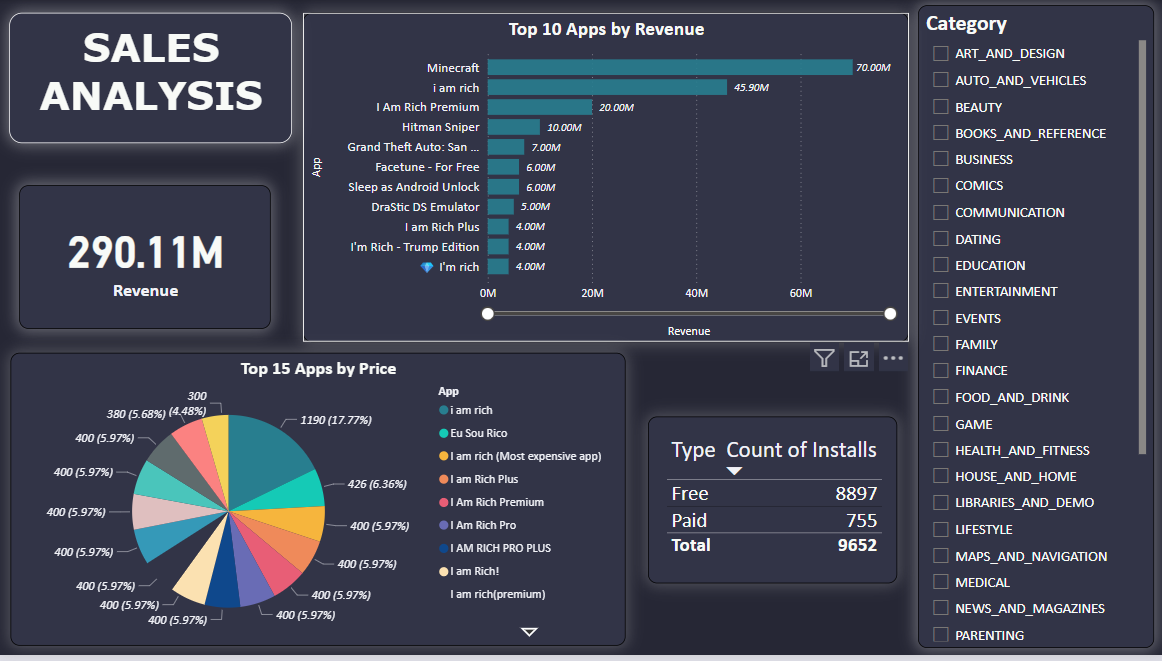

The dashboard page shown, as its layout file describes it:
{"tool":"powerbi","page":{"name":"Sales Analysis","canvas":[1280,720],"ordinal":0},"visuals":[{"type":"slicer","title":"Category","fields":{"Values":["googleplaystore.Category"]},"box":[1010,6.9,259.3,705.3],"z":0},{"type":"card","fields":{"Values":["Sum(googleplaystore.Revenue)"]},"box":[23.3,204.5,275.8,157.8],"z":1000},{"type":"tableEx","title":"Type of Installs","fields":{"Values":["googleplaystore.Type","CountNonNull(googleplaystore.Installs)"]},"box":[713.3,458.3,273.3,183.3],"z":2000},{"type":"clusteredBarChart","title":"Top 10 Apps by Revenue","fields":{"Category":["googleplaystore.App"],"Y":["Sum(googleplaystore.Revenue)"]},"box":[335,15,665,361.7],"z":3000},{"type":"pieChart","title":"Top 15 Apps by Price","fields":{"Category":["googleplaystore.App"],"Y":["Sum(googleplaystore.Price)"]},"box":[13.3,388.3,675,321.7],"z":4000},{"type":"textbox","box":[12.9,15.7,310,142.9],"z":5000}]}

Visuals, with their boxes in screenshot pixels (x1, y1, x2, y2), scaled from the page's 1280x720 canvas onto the 1162x661 screenshot:
"Category" slicer: (917, 6, 1152, 654)
card - Sum(googleplaystore.Revenue): (21, 188, 272, 333)
"Type of Installs" tableEx: (648, 421, 896, 589)
"Top 10 Apps by Revenue" clusteredBarChart: (304, 14, 908, 346)
"Top 15 Apps by Price" pieChart: (12, 356, 625, 652)
textbox: (12, 14, 293, 146)
